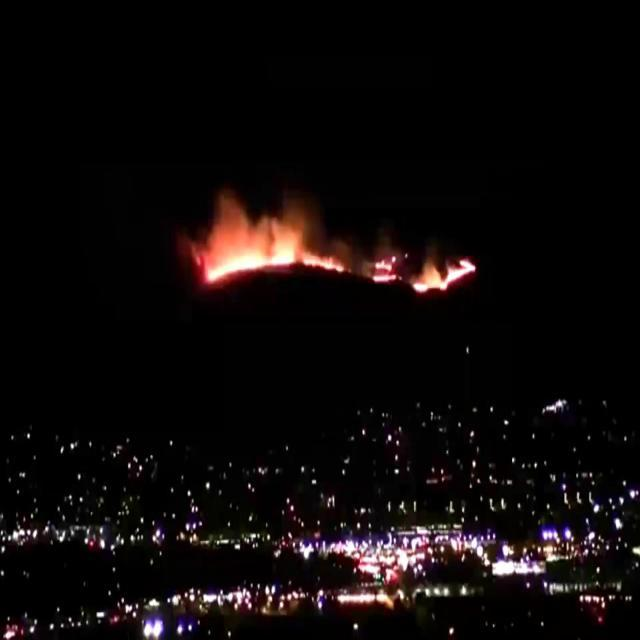Fire: (197, 194, 343, 278), (414, 258, 476, 292), (373, 256, 398, 286)
